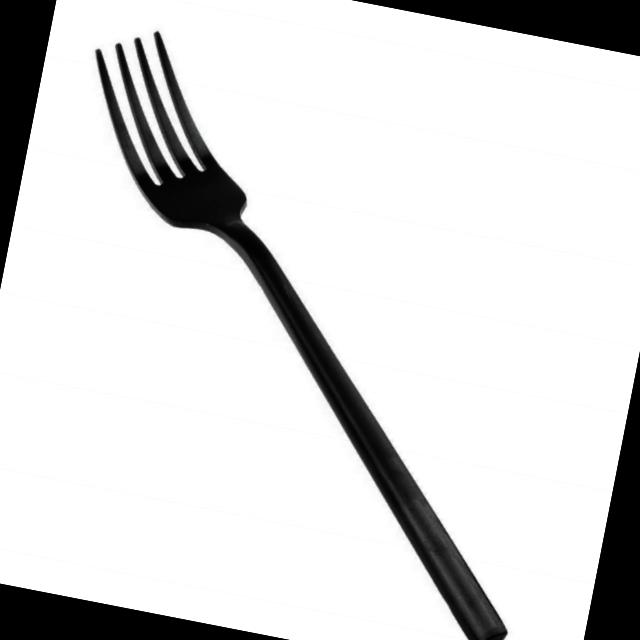fork: (0, 14, 611, 640)
